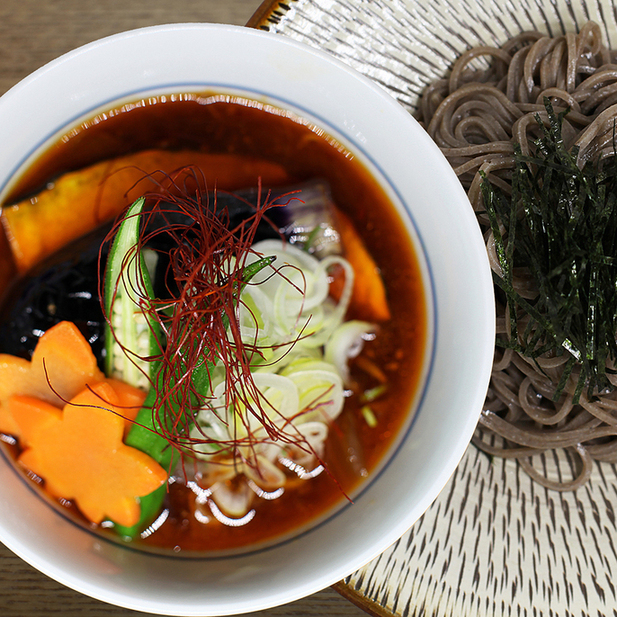Soba: (441, 35, 617, 471)
